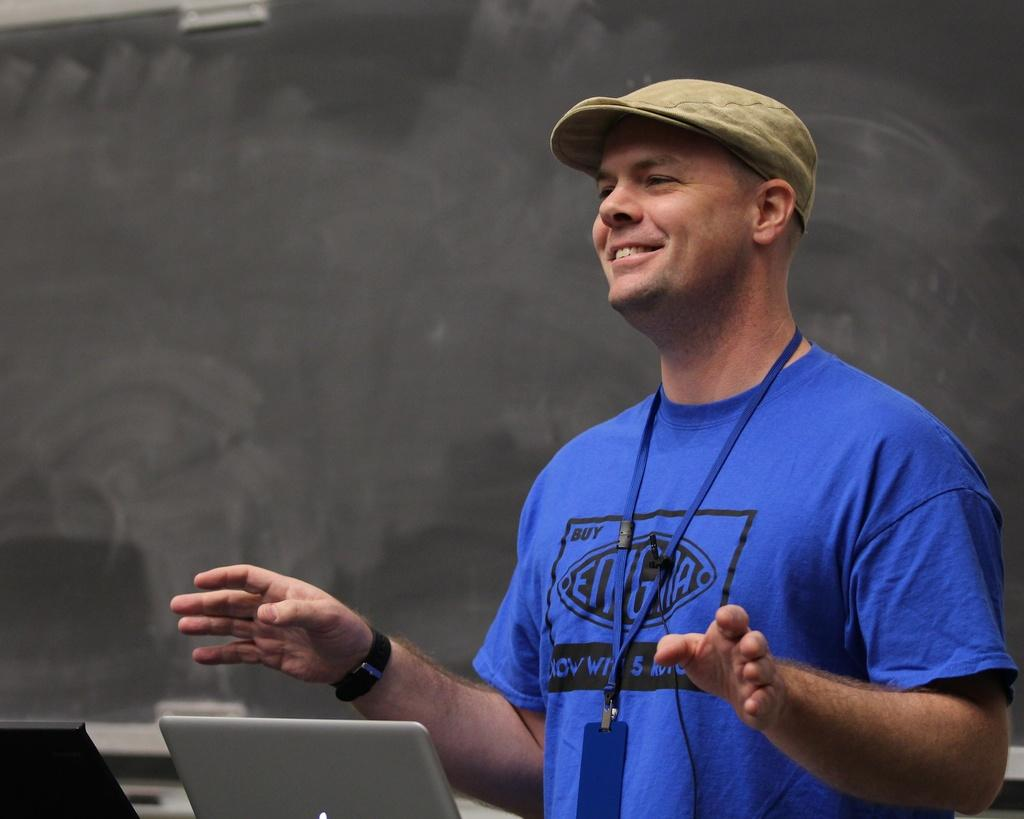Hat: (550, 76, 818, 235)
